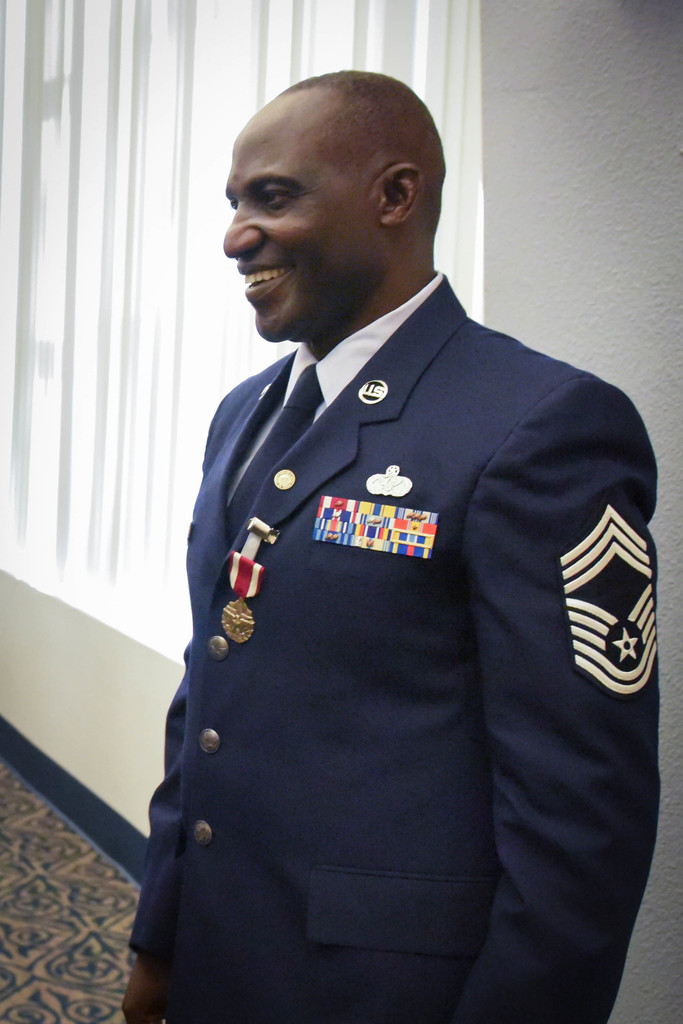Person: (119, 69, 659, 1024)
